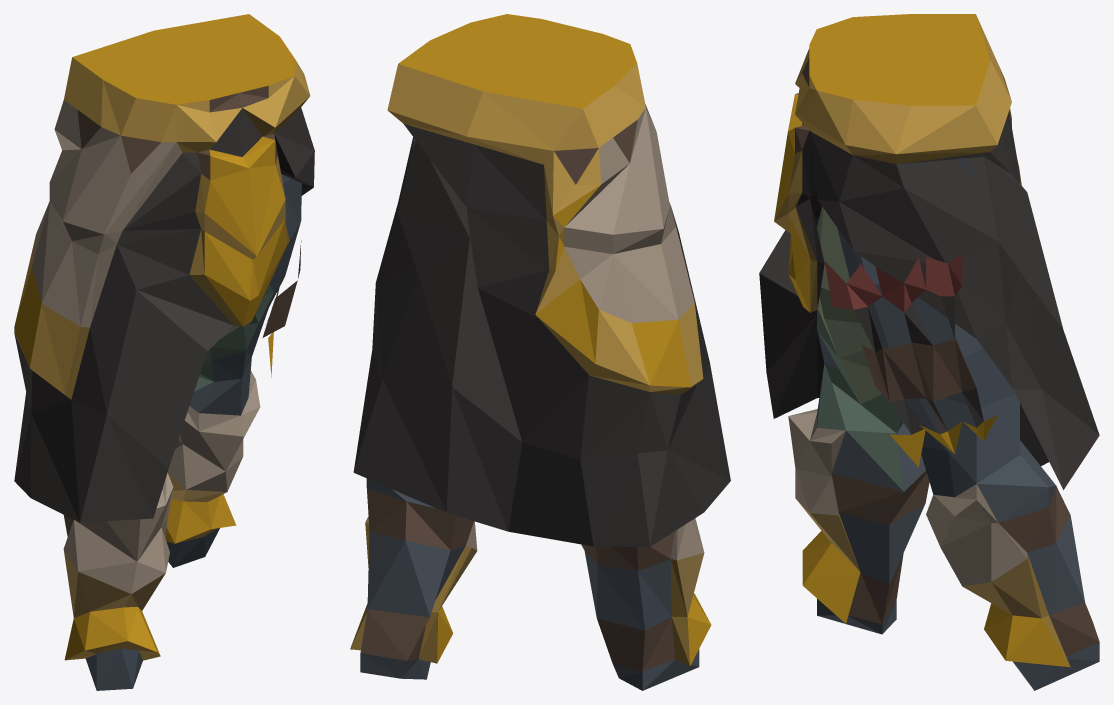
Rendered from male_Masori_chaps-v8.glb.
3 renders of one model, left to right at view 1: azimuth 30°, elevation 25°; view 2: azimuth 150°, elevation 25°; view 3: azimuth 270°, elevation 25°, orthographic. The views are drawn at different scales.
Bounding box in the file's own units: 47.58 × 93.88 × 47.05.
1 material, 1 textured.
